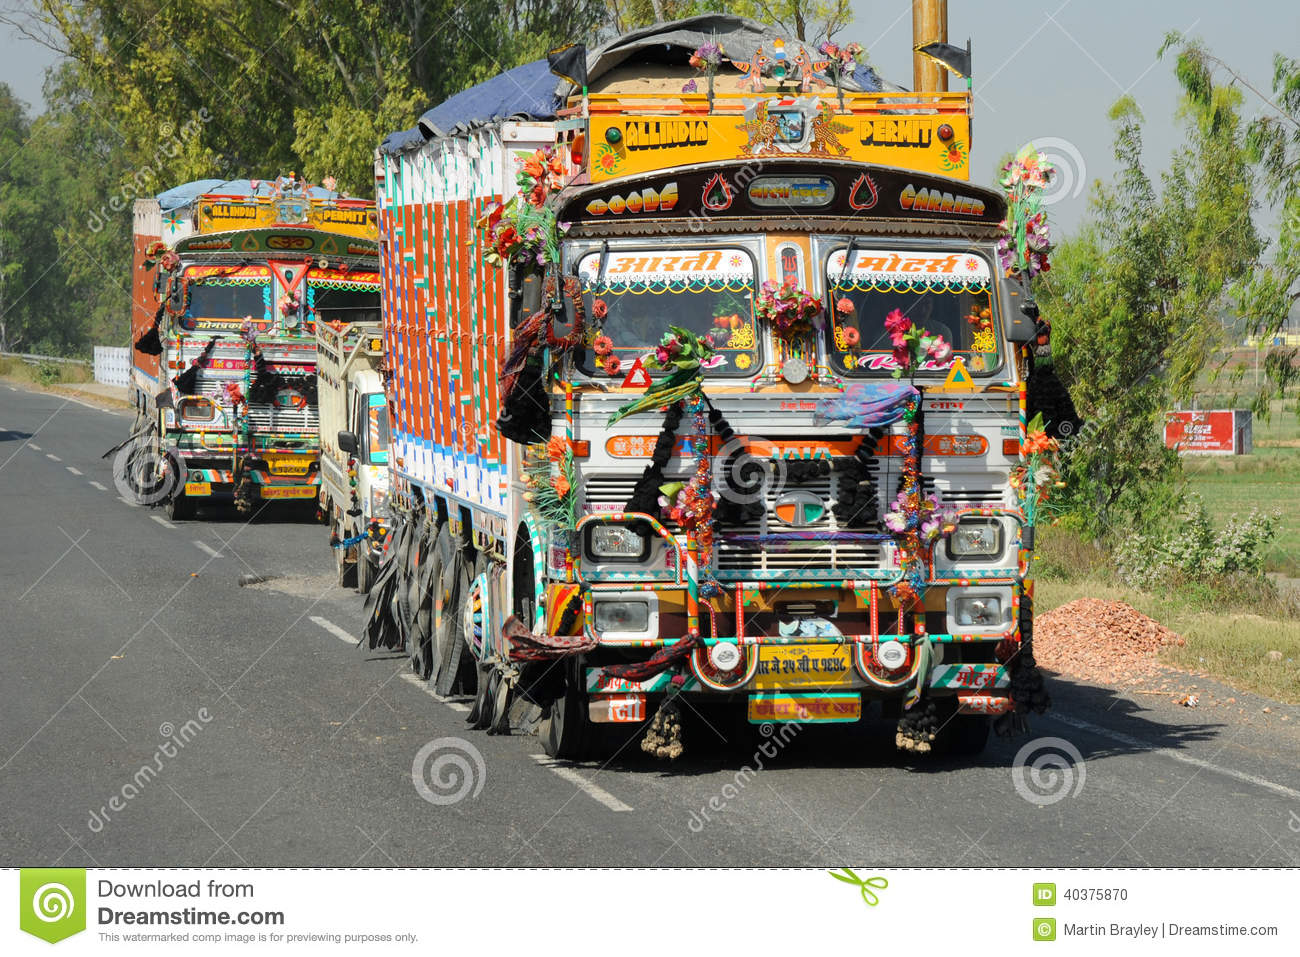truck: (406, 97, 1038, 768), (134, 196, 380, 527)
